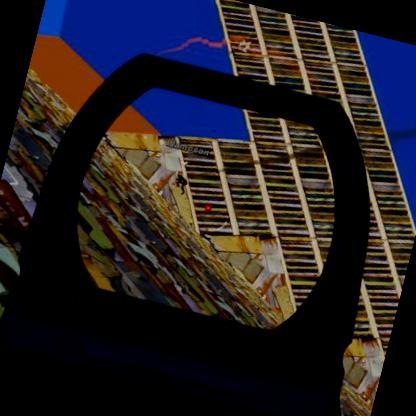person: (172, 172, 188, 192)
